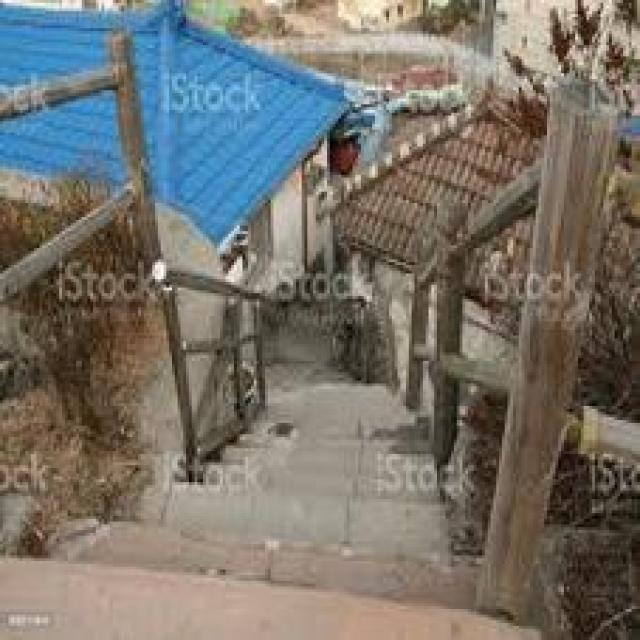downstair: (91, 435, 438, 621)
